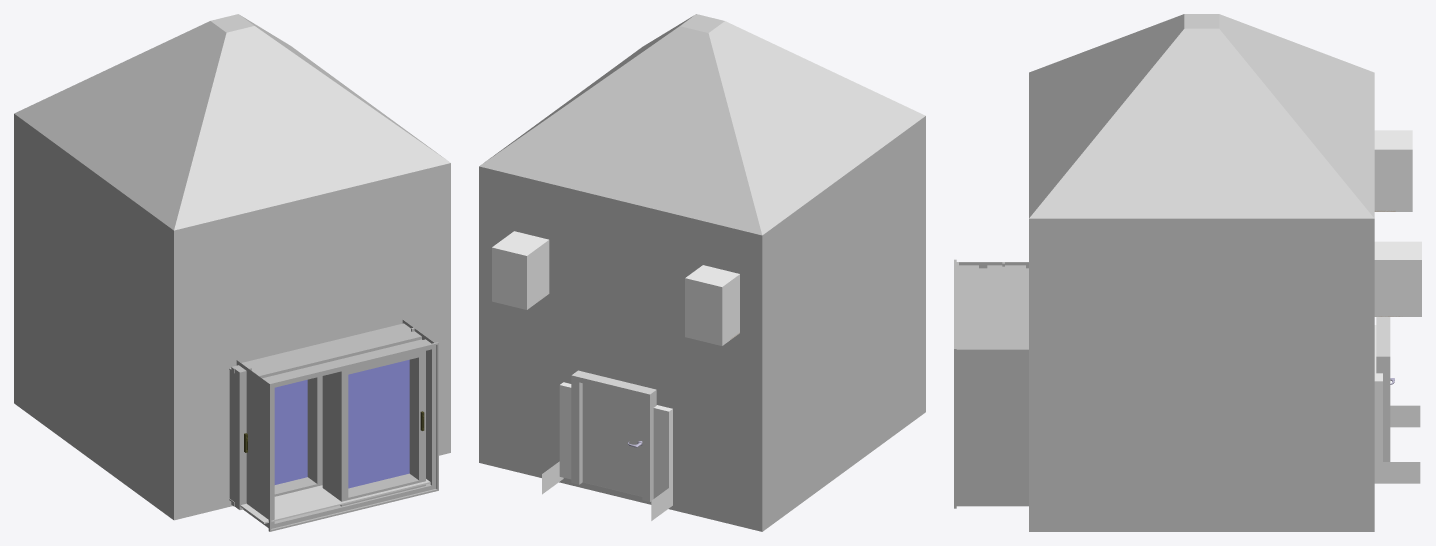
3 views of the same model, side by side, from view 1: azimuth 30°, elevation 25°; view 2: azimuth 150°, elevation 25°; view 3: azimuth 270°, elevation 25° (orthographic). The views are drawn at different scales.
Parts seen in each view (by area): view 1: Cube.001, Window.R, WindowFrame, Window.L, Windows_Sill; view 2: Cube.001, Door, CTRL_Hole.002, CTRL_Hole.004, DoorFrame, CTRL_Hole, CTRL_Baseboard; view 3: Cube.001, WindowFrame, CTRL_Hole.004, CTRL_Hole.002, CTRL_Baseboard, DoorFrame, CTRL_Hole, Window.001.
Boxes of the visible parts, x1,y1,x2,y2 form: Cube.001: (14, 14, 450, 520); Window.R: (322, 351, 425, 506); WindowFrame: (236, 319, 438, 531); Window.L: (229, 365, 322, 509); Windows_Sill: (240, 479, 430, 523); Cube.001: (479, 14, 925, 531); Door: (582, 383, 642, 496); CTRL_Hole.002: (685, 265, 739, 345); CTRL_Hole.004: (492, 231, 549, 309); DoorFrame: (571, 370, 656, 501); CTRL_Hole: (559, 382, 672, 502); CTRL_Baseboard: (542, 461, 672, 520); Cube.001: (1029, 14, 1374, 531); WindowFrame: (954, 259, 1028, 508); CTRL_Hole.004: (1374, 241, 1421, 316); CTRL_Hole.002: (1374, 130, 1412, 211); CTRL_Baseboard: (1374, 405, 1420, 483); DoorFrame: (1376, 317, 1390, 461); CTRL_Hole: (1374, 325, 1382, 478); Window.001: (1374, 241, 1402, 316).
Size of the model in its own units: 200 by 280 by 271.
